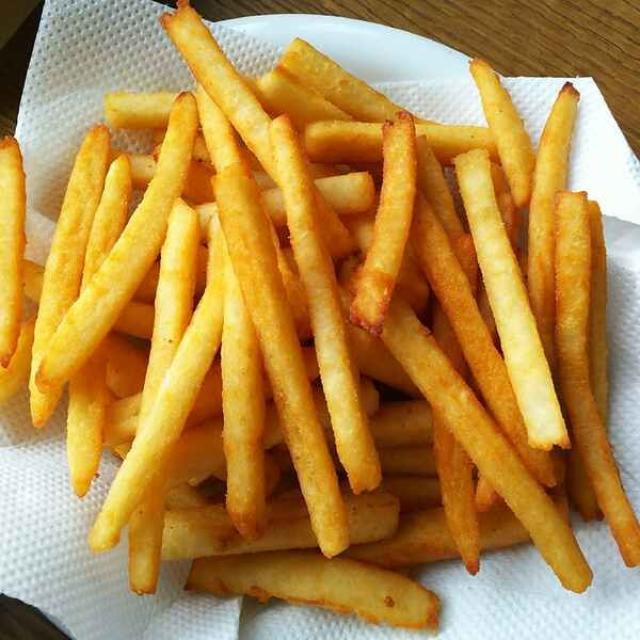potato fries: (0, 0, 639, 629), (382, 299, 591, 591), (217, 165, 348, 555), (32, 93, 197, 389), (90, 237, 223, 550), (270, 117, 380, 493), (413, 200, 554, 485), (456, 151, 569, 450), (555, 192, 639, 566), (29, 126, 109, 426), (162, 4, 276, 179), (187, 552, 439, 630), (350, 112, 417, 334), (527, 84, 579, 370), (137, 200, 199, 435), (221, 247, 266, 539), (280, 39, 402, 122), (163, 496, 317, 559), (470, 59, 535, 207), (434, 412, 479, 574), (347, 508, 458, 568), (82, 156, 132, 289), (255, 66, 353, 130), (68, 346, 108, 497), (0, 138, 26, 366), (347, 325, 419, 396), (416, 136, 463, 237), (587, 201, 607, 427), (588, 201, 607, 425), (196, 86, 244, 171), (167, 419, 226, 487), (304, 121, 382, 163), (370, 400, 433, 449), (0, 319, 34, 405), (315, 171, 375, 217), (104, 92, 177, 129), (566, 446, 602, 521), (106, 333, 148, 397), (396, 244, 429, 313), (380, 475, 440, 511), (188, 362, 221, 425), (379, 445, 436, 476), (112, 300, 154, 340), (127, 148, 161, 189), (196, 246, 207, 295)
